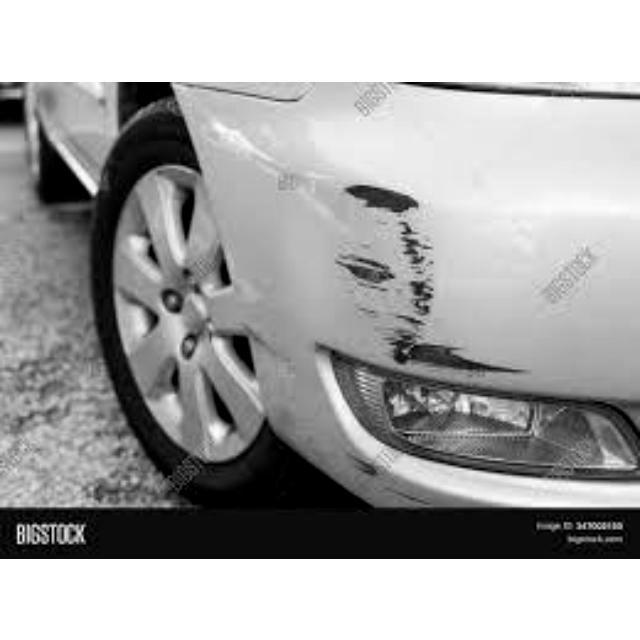front-bumper-dent: (171, 92, 638, 517)
